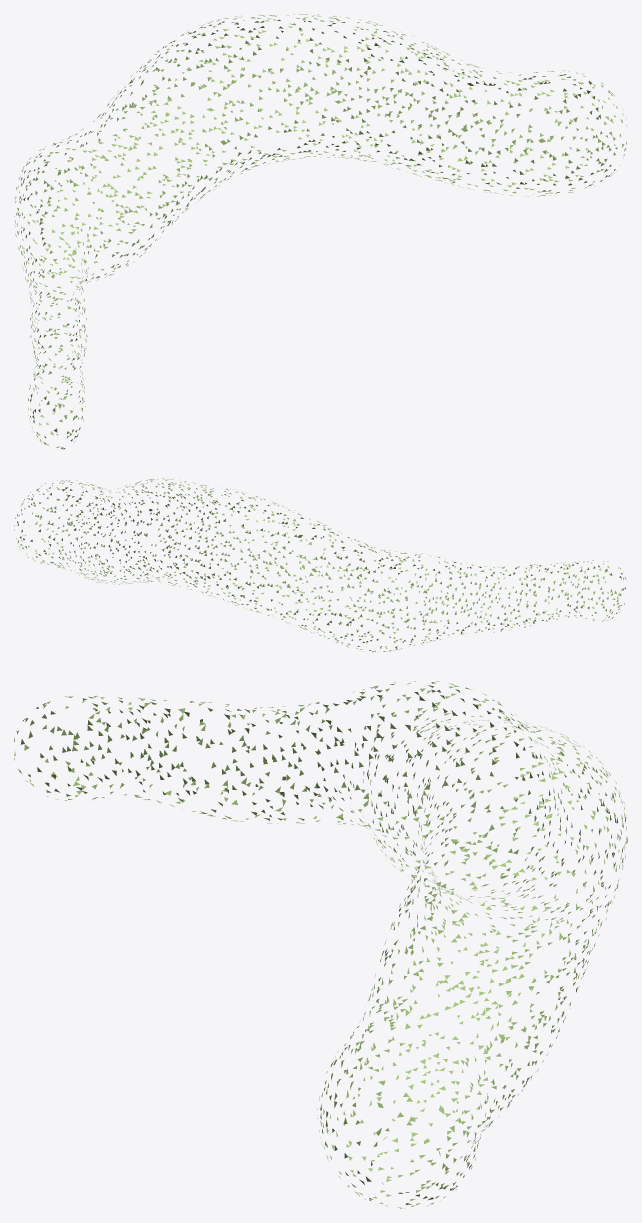
The model's file is morph_012.glb.
3 views of the same model, one above another, from view 1: azimuth 30°, elevation 25°; view 2: azimuth 150°, elevation 25°; view 3: azimuth 270°, elevation 25° (orthographic). The views are drawn at different scales.
Bounding box in the file's own units: 122 × 35 × 68.51.
